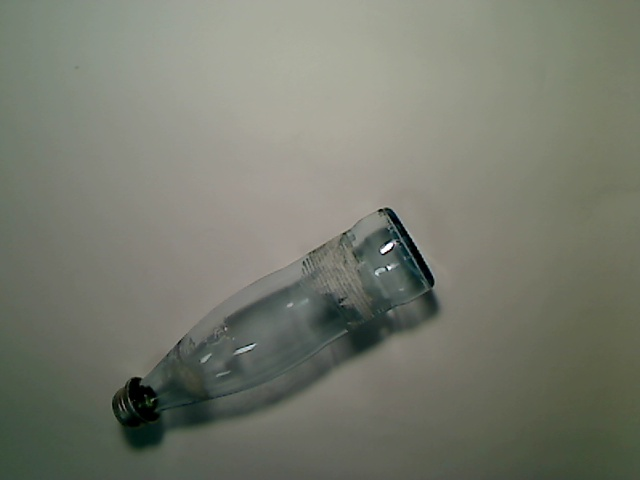bottle: (110, 205, 436, 429)
